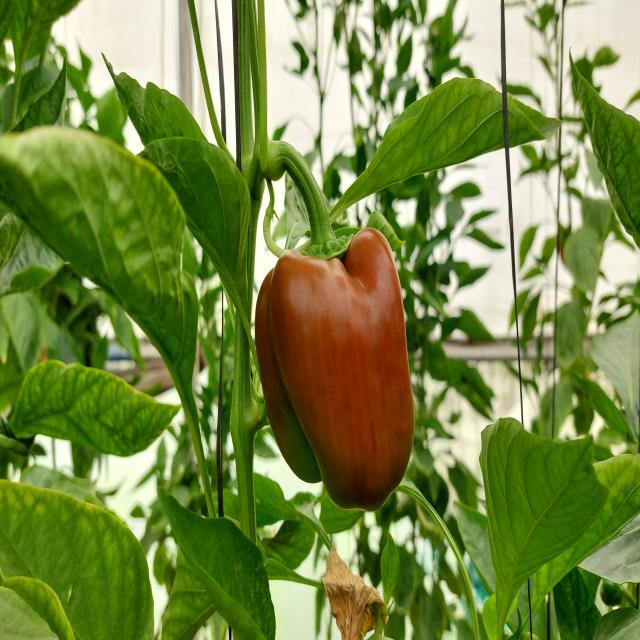BrownishRed--Can-be-Harvested: (252, 224, 423, 514)
